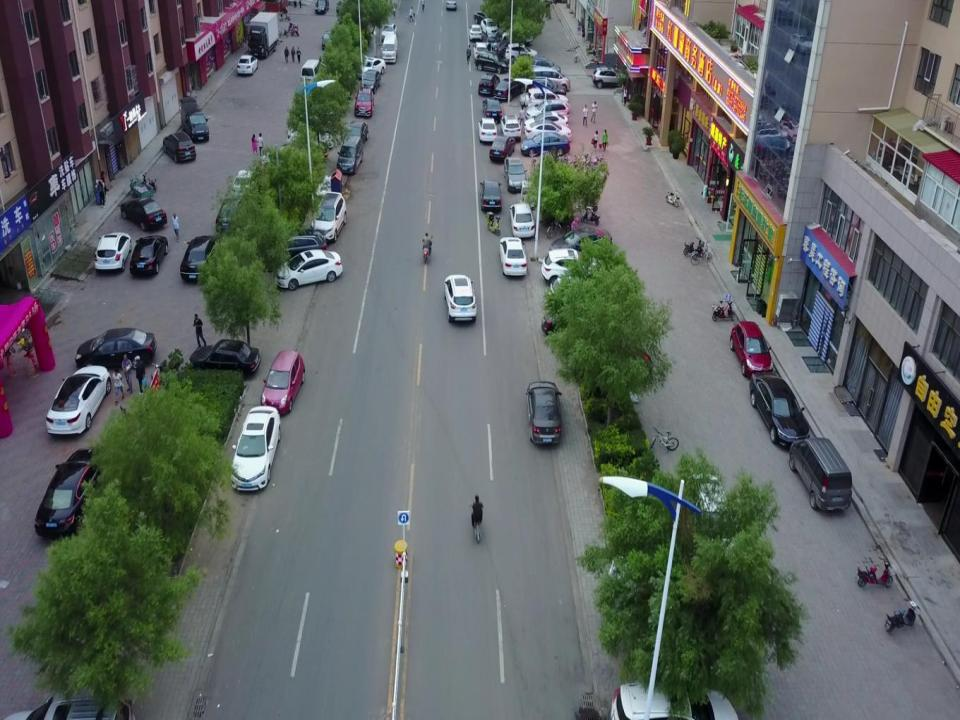car: (34, 447, 102, 537), (610, 680, 740, 720), (750, 370, 810, 447), (46, 365, 110, 433), (230, 408, 280, 490), (2, 693, 137, 720), (541, 305, 624, 344), (73, 329, 154, 367), (260, 349, 305, 416), (275, 247, 343, 290), (188, 341, 262, 379), (730, 320, 774, 379), (526, 379, 562, 446), (550, 276, 617, 312), (543, 248, 606, 284), (265, 229, 327, 264), (551, 228, 612, 262), (309, 192, 347, 243), (182, 234, 221, 282), (443, 273, 477, 325), (129, 235, 168, 277), (120, 198, 167, 231), (95, 232, 132, 272), (498, 236, 528, 277), (520, 132, 571, 156), (216, 197, 244, 234), (525, 121, 572, 143), (162, 132, 196, 162), (528, 90, 570, 114), (509, 202, 535, 238), (526, 101, 570, 122), (342, 121, 368, 156), (525, 77, 566, 99), (523, 113, 568, 133), (503, 157, 528, 193), (475, 49, 509, 73), (522, 57, 560, 78), (232, 168, 259, 197), (518, 88, 555, 109), (592, 66, 627, 88), (489, 134, 516, 162), (479, 180, 502, 212), (356, 57, 386, 81), (494, 78, 525, 101), (504, 43, 537, 64), (500, 113, 521, 141), (494, 42, 526, 60), (477, 72, 500, 97), (355, 86, 373, 116), (477, 118, 498, 143), (360, 70, 380, 96), (482, 97, 502, 119), (237, 56, 259, 75), (474, 12, 498, 28), (472, 42, 488, 62), (481, 19, 499, 36), (323, 29, 336, 51), (487, 31, 504, 47), (470, 23, 482, 42), (314, 0, 330, 14), (445, 0, 458, 10)
truck: (249, 12, 278, 58)
van: (788, 437, 852, 514), (178, 97, 210, 143), (526, 67, 570, 93), (337, 134, 364, 174), (300, 60, 324, 88), (381, 33, 398, 63), (381, 23, 398, 42)
